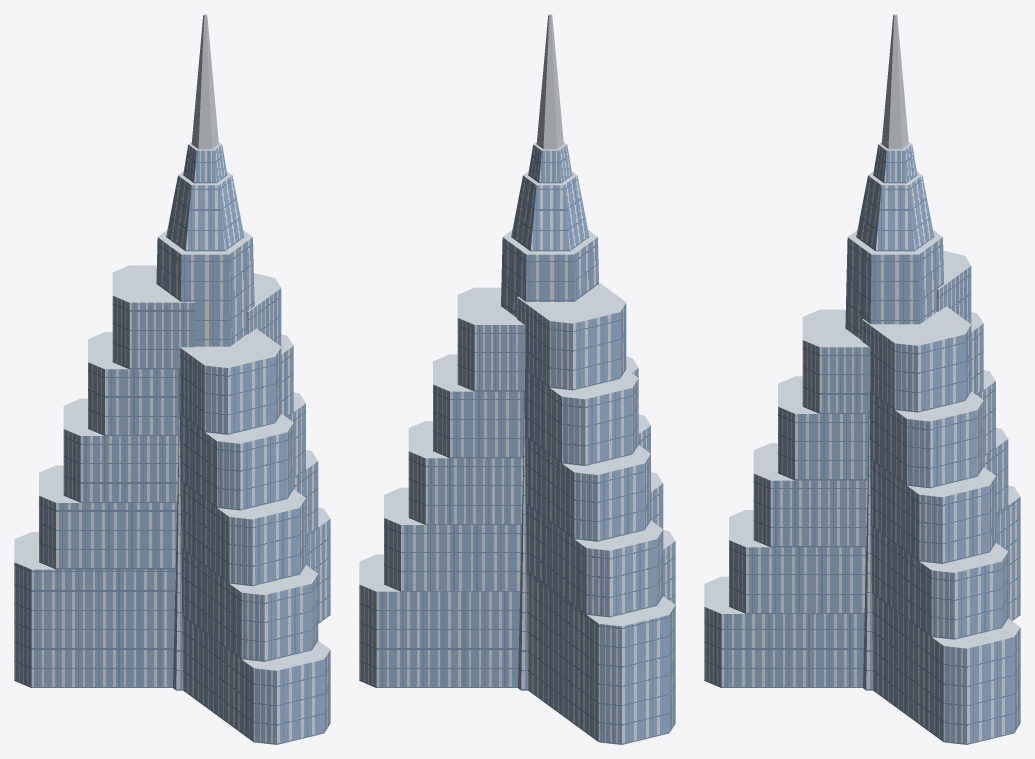
Rendered from burj.glb.
3 views of the same model, side by side, from view 1: azimuth 30°, elevation 25°; view 2: azimuth 150°, elevation 25°; view 3: azimuth 270°, elevation 25° (orthographic).
Visible parts, largest first — view 1: burj; view 2: burj; view 3: burj.
Boxes of the visible parts, left/top/right/bottom form: burj: left=14, top=14, right=330, bottom=744; burj: left=359, top=14, right=675, bottom=744; burj: left=704, top=14, right=1020, bottom=744.
Size of the model in its own units: 1.05 by 2.12 by 0.9276.
3 materials, 1 textured.
